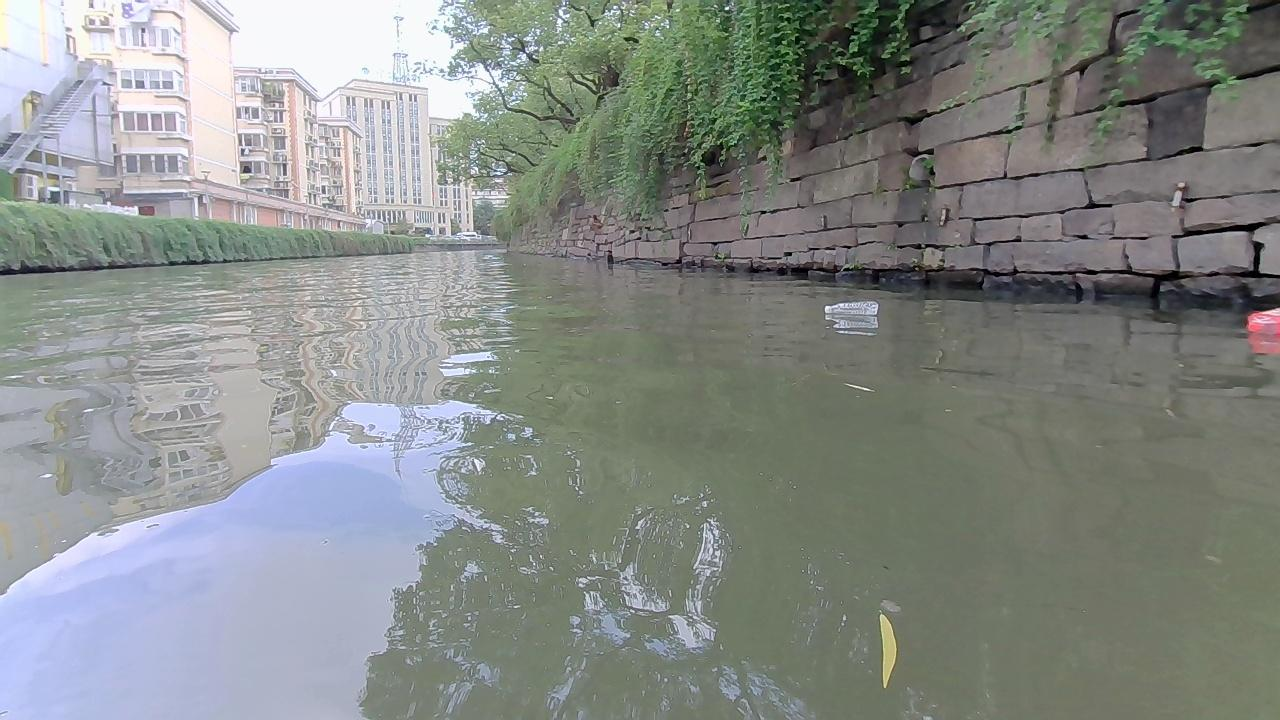bottle: (1245, 304, 1279, 333), (823, 300, 879, 316)
